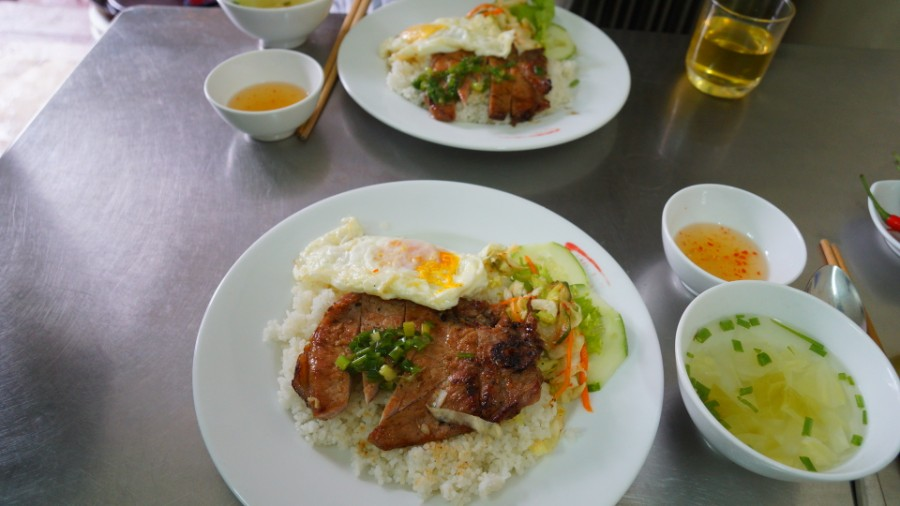fried egg: (309, 221, 475, 301), (407, 26, 523, 64)
plain rice: (404, 442, 518, 485)
